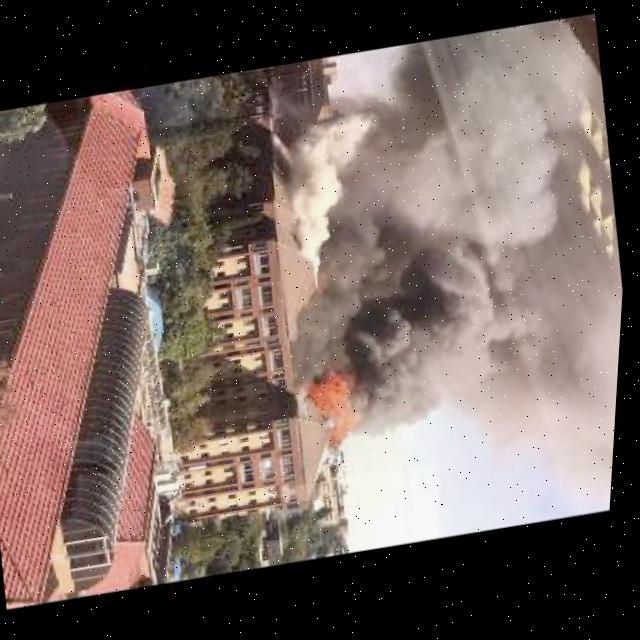Smoke: (318, 31, 638, 438), (296, 357, 377, 458)
